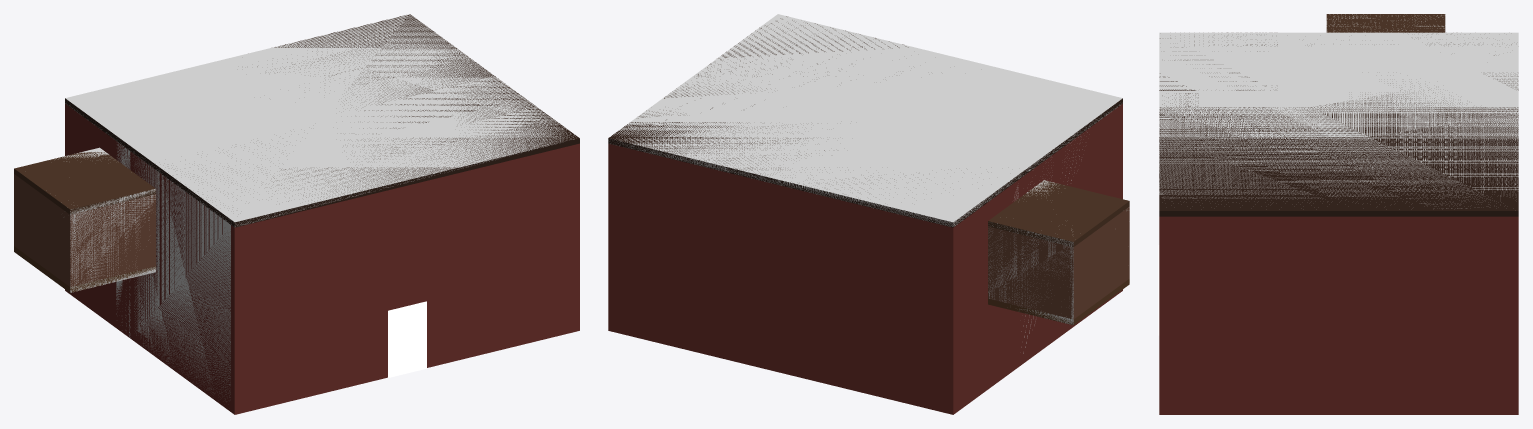
File: taberna_lapa_dentro.glb
3 views of the same model, side by side, from view 1: azimuth 30°, elevation 25°; view 2: azimuth 150°, elevation 25°; view 3: azimuth 270°, elevation 25° (orthographic). The views are drawn at different scales.
Parts seen in each view (by area): view 1: taberna_lapa_dentro_Malla, COL_10, COL_4, COL_36, COL_38; view 2: taberna_lapa_dentro_Malla, COL_10, COL_37; view 3: taberna_lapa_dentro_Malla, COL_10.
Part boxes in pixels (x1,y1,x2,y2): taberna_lapa_dentro_Malla: (14, 14, 579, 414); COL_10: (65, 14, 575, 227); COL_4: (133, 155, 230, 401); COL_36: (75, 194, 155, 284); COL_38: (55, 147, 155, 214); taberna_lapa_dentro_Malla: (608, 16, 1129, 414); COL_10: (609, 14, 1122, 226); COL_37: (988, 230, 1068, 316); taberna_lapa_dentro_Malla: (1158, 14, 1518, 414); COL_10: (1159, 32, 1518, 208).
Bounding box in the file's own units: 16.85 × 7.29 × 11.54.
